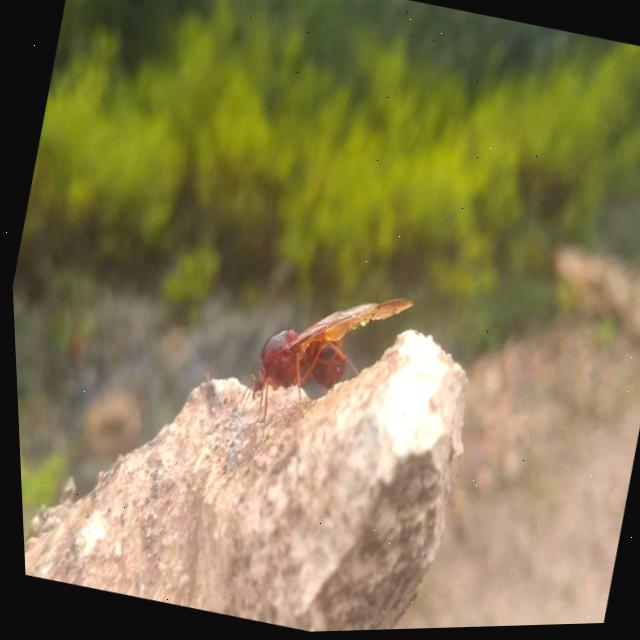Alive-Male-Alate: (221, 268, 417, 482)
